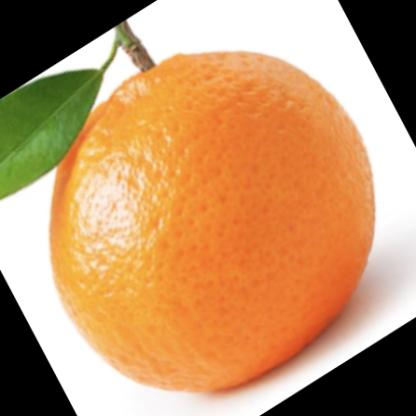fresh: (52, 53, 374, 395)
